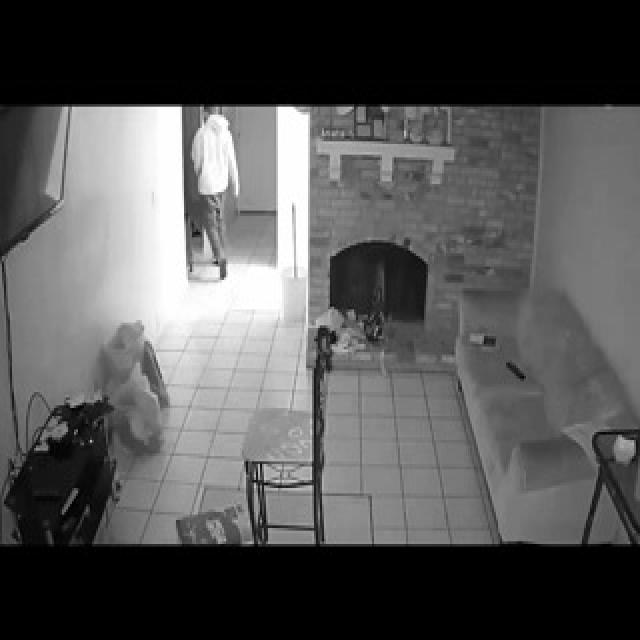thief: (185, 106, 249, 173)
